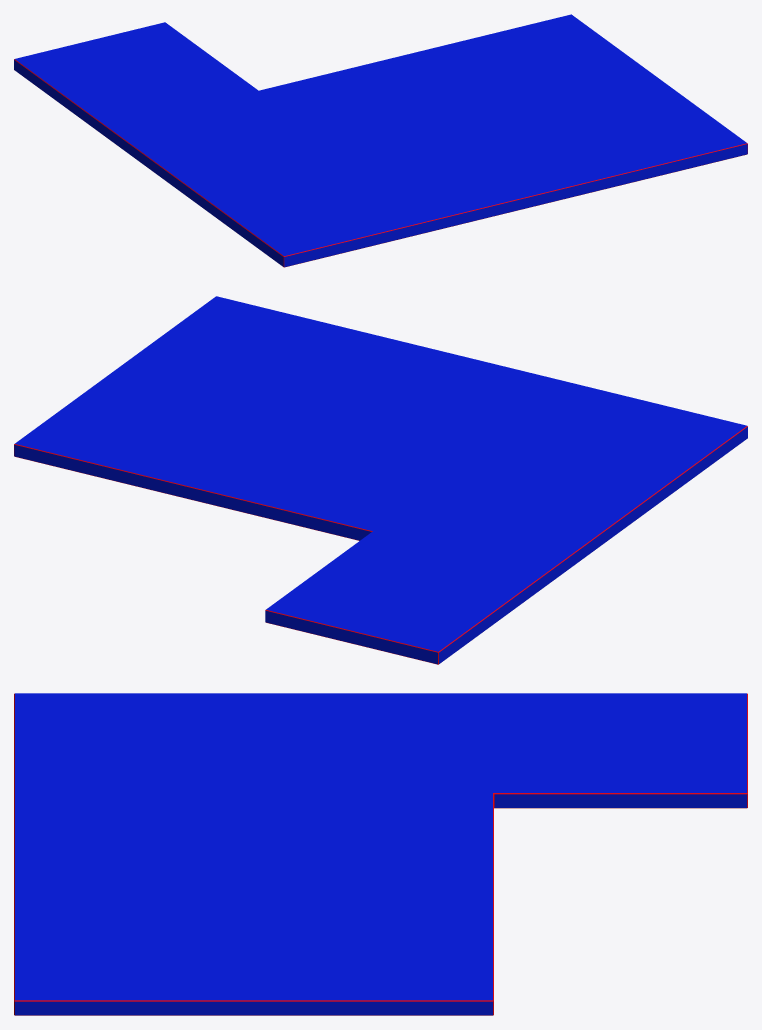
The model's file is L5_Ground.fbx.
3 renders of one model, top to bottom at view 1: azimuth 30°, elevation 25°; view 2: azimuth 150°, elevation 25°; view 3: azimuth 270°, elevation 25°, orthographic. The views are drawn at different scales.
Parts seen in each view (by area): view 1: L5_Ground; view 2: L5_Ground; view 3: L5_Ground.
Part boxes in pixels (x1,y1,x2,y2): L5_Ground: (14,14,747,267); L5_Ground: (14,296,747,664); L5_Ground: (14,693,747,1015).
Bounding box in the file's own units: 4300 × 100 × 4332.
